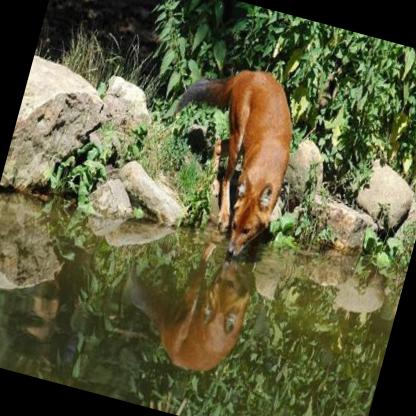dhole: (139, 50, 309, 266)
